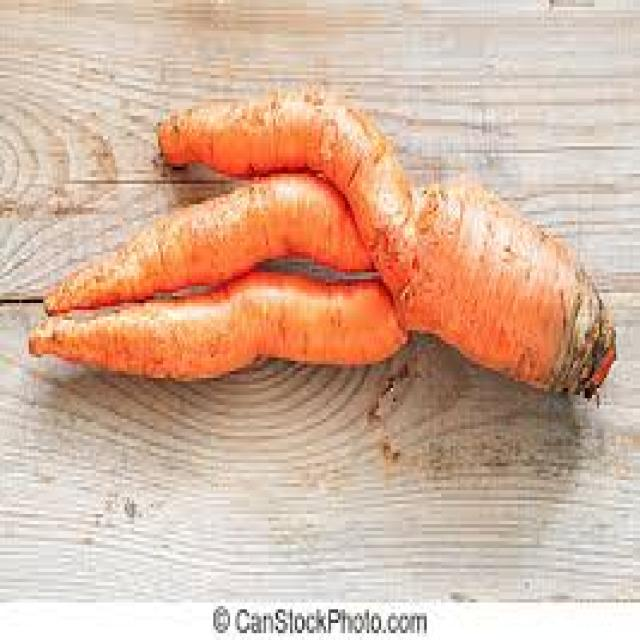Stale_Carrot: (159, 92, 599, 390), (45, 174, 373, 313), (29, 272, 407, 379)
